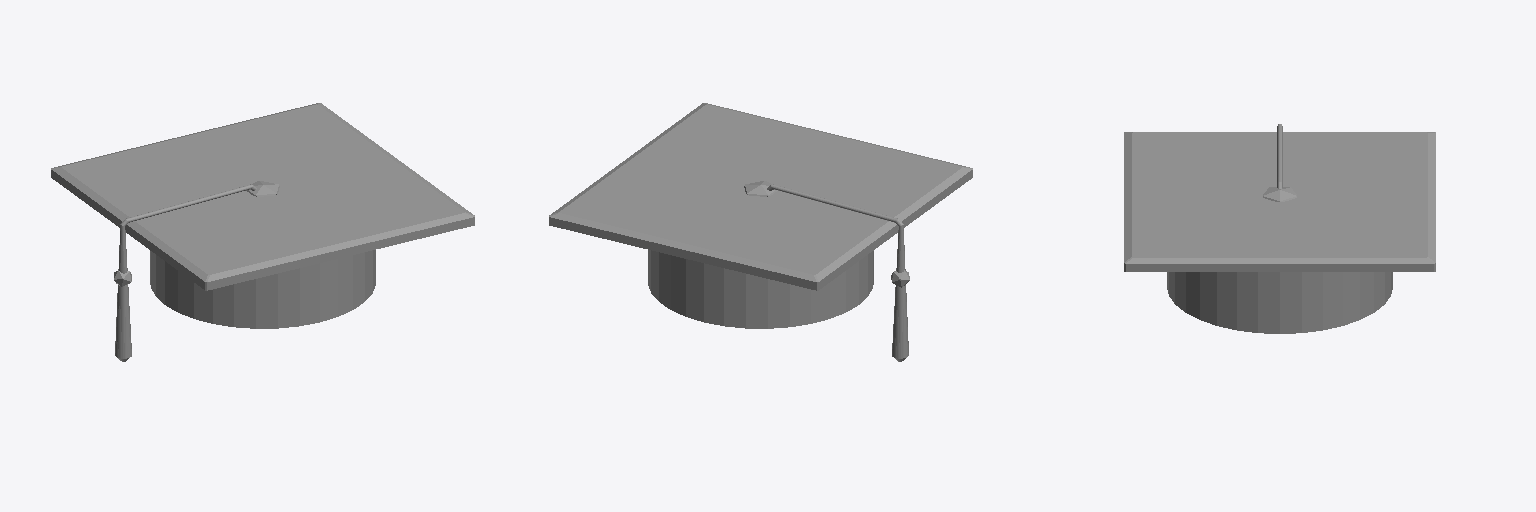
File: student-hat.obj
The picture shows the model from 3 angles: view 1: azimuth 30°, elevation 25°; view 2: azimuth 150°, elevation 25°; view 3: azimuth 270°, elevation 25°; orthographic projection.
Visible parts, largest first — view 1: Hat_Cube.011; view 2: Hat_Cube.011; view 3: Hat_Cube.011.
Boxes of the visible parts, box(x1,y1,x2,y2) form: Hat_Cube.011: box(51, 103, 474, 361); Hat_Cube.011: box(549, 103, 972, 361); Hat_Cube.011: box(1124, 124, 1435, 333).
Size of the model in its own units: 2.1 by 1.03 by 2.